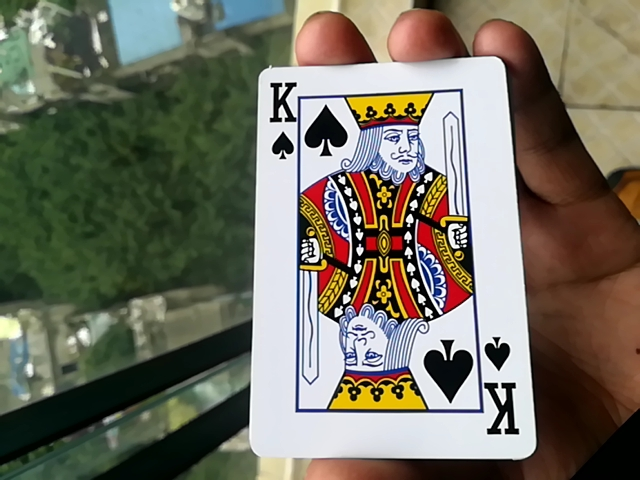ht k: (244, 59, 530, 462)
